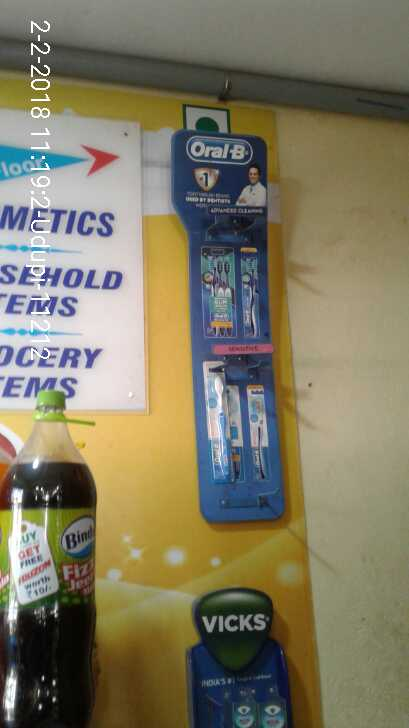oralb: (206, 370, 237, 486)
